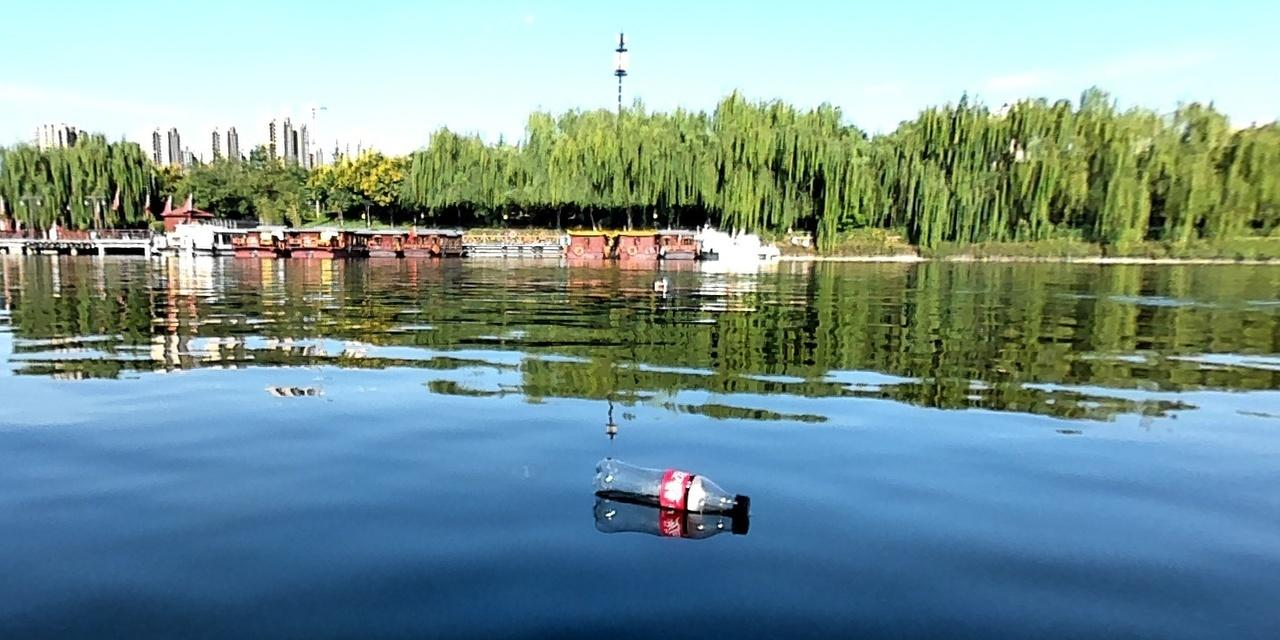bottle: (588, 453, 752, 522)
